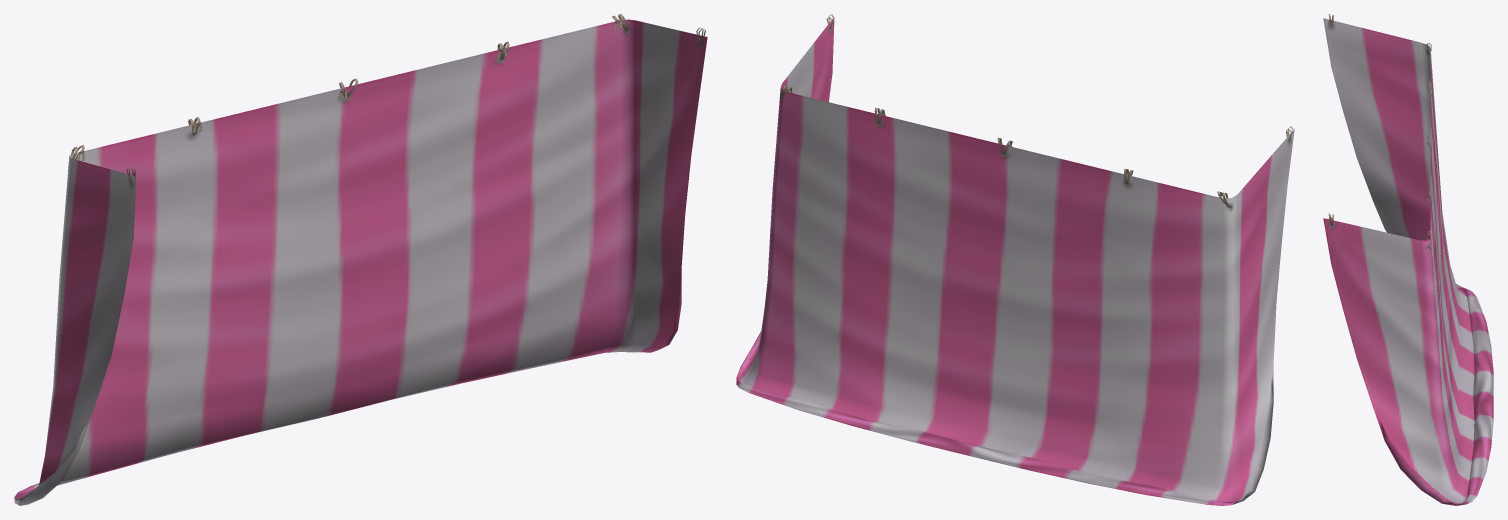
Rendered from jsf_BackSide_s03_c06_t01.fbx.
3 views of the same model, side by side, from view 1: azimuth 30°, elevation 25°; view 2: azimuth 150°, elevation 25°; view 3: azimuth 270°, elevation 25° (orthographic). The views are drawn at different scales.
Parts seen in each view (by area): view 1: jsf_BackSide_s03_c06_t01; view 2: jsf_BackSide_s03_c06_t01; view 3: jsf_BackSide_s03_c06_t01.
Boxes of the visible parts, <box> form: jsf_BackSide_s03_c06_t01: <box>14,14,707,505</box>; jsf_BackSide_s03_c06_t01: <box>736,14,1294,505</box>; jsf_BackSide_s03_c06_t01: <box>1323,14,1493,505</box>.
Bounding box in the file's own units: 348 × 205 × 112.
